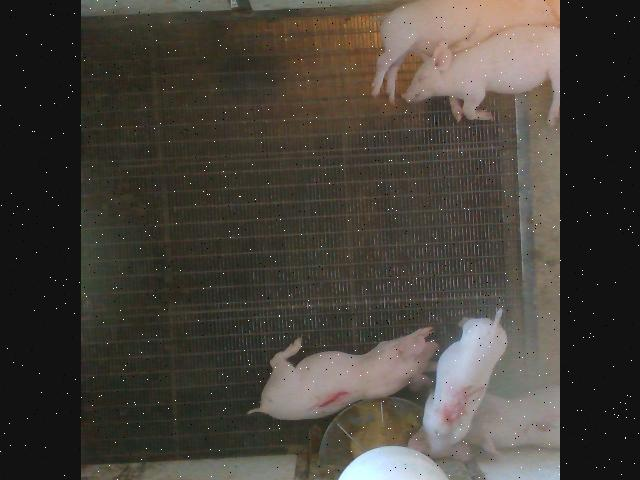pig-1: (248, 328, 437, 420)
pig-3: (464, 386, 558, 452)
pig-5: (408, 309, 506, 458)
